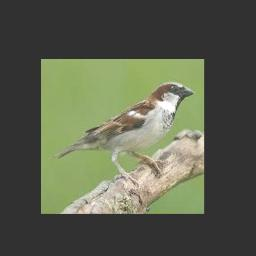Sparrow: (51, 82, 194, 187)
